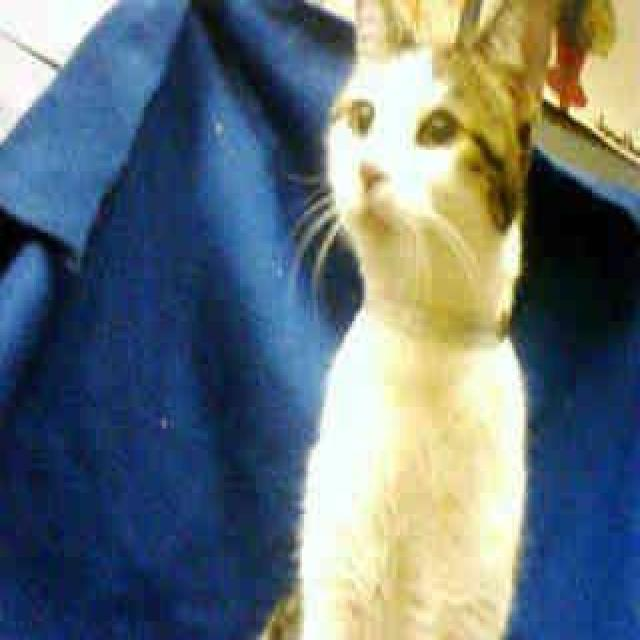cat: (267, 0, 589, 640)
